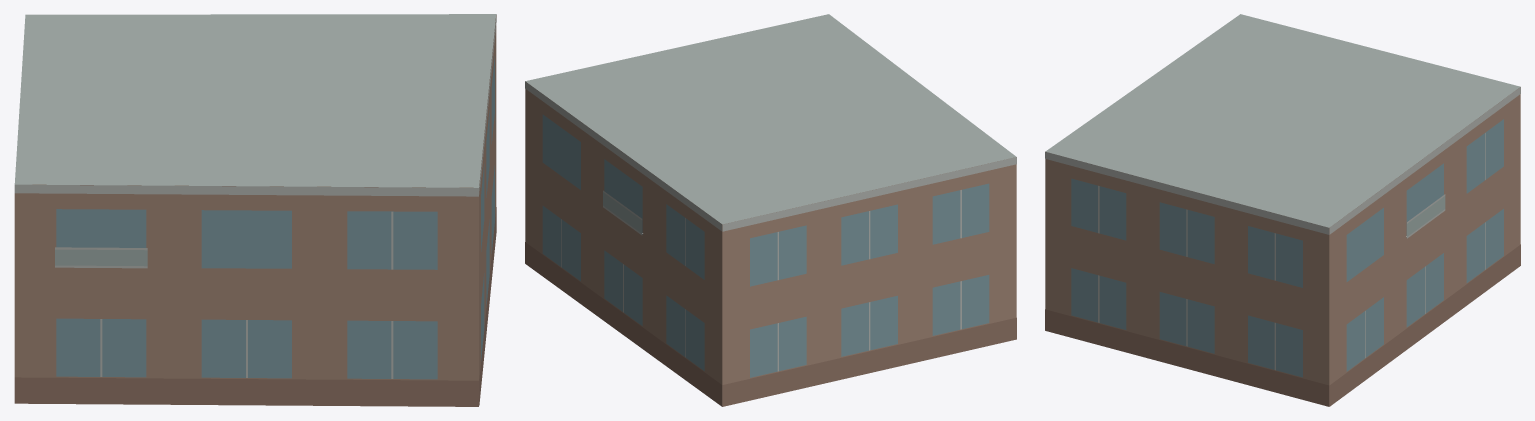
The model's file is survey-upis-32664806.glb.
The picture shows the model from 3 angles, left to right: view 1: azimuth 30°, elevation 25°; view 2: azimuth 150°, elevation 25°; view 3: azimuth 270°, elevation 25°; orthographic projection. The views are drawn at different scales.
Parts seen in each view (by area): view 1: survey-upis-32664806.tmp; view 2: survey-upis-32664806.tmp; view 3: survey-upis-32664806.tmp.
Boxes of the visible parts, box(x1,y1,x2,y2) form: survey-upis-32664806.tmp: box(14, 14, 496, 406); survey-upis-32664806.tmp: box(525, 14, 1016, 406); survey-upis-32664806.tmp: box(1045, 14, 1520, 406).
Size of the model in its own units: 15.63 by 6.1 by 14.69.
